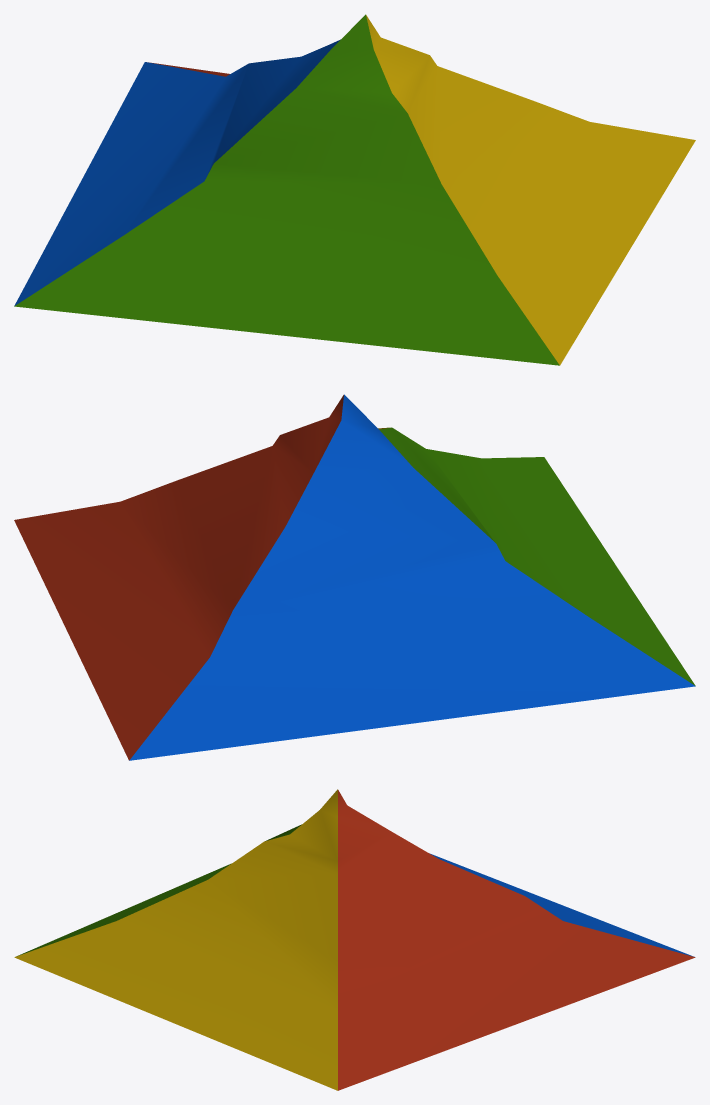
File: Distant_Mountain.fbx
The picture shows the model from 3 angles, top to bottom: view 1: azimuth 30°, elevation 25°; view 2: azimuth 150°, elevation 25°; view 3: azimuth 270°, elevation 25°; orthographic projection. The views are drawn at different scales.
Parts seen in each view (by area): view 1: Farm_Mountain; view 2: Farm_Mountain; view 3: Farm_Mountain.
Part boxes in pixels (x1,y1,x2,y2): Farm_Mountain: (14,14,695,365); Farm_Mountain: (14,394,695,760); Farm_Mountain: (14,789,695,1090).
Bounding box in the file's own units: 12.31 × 3.56 × 12.97.
